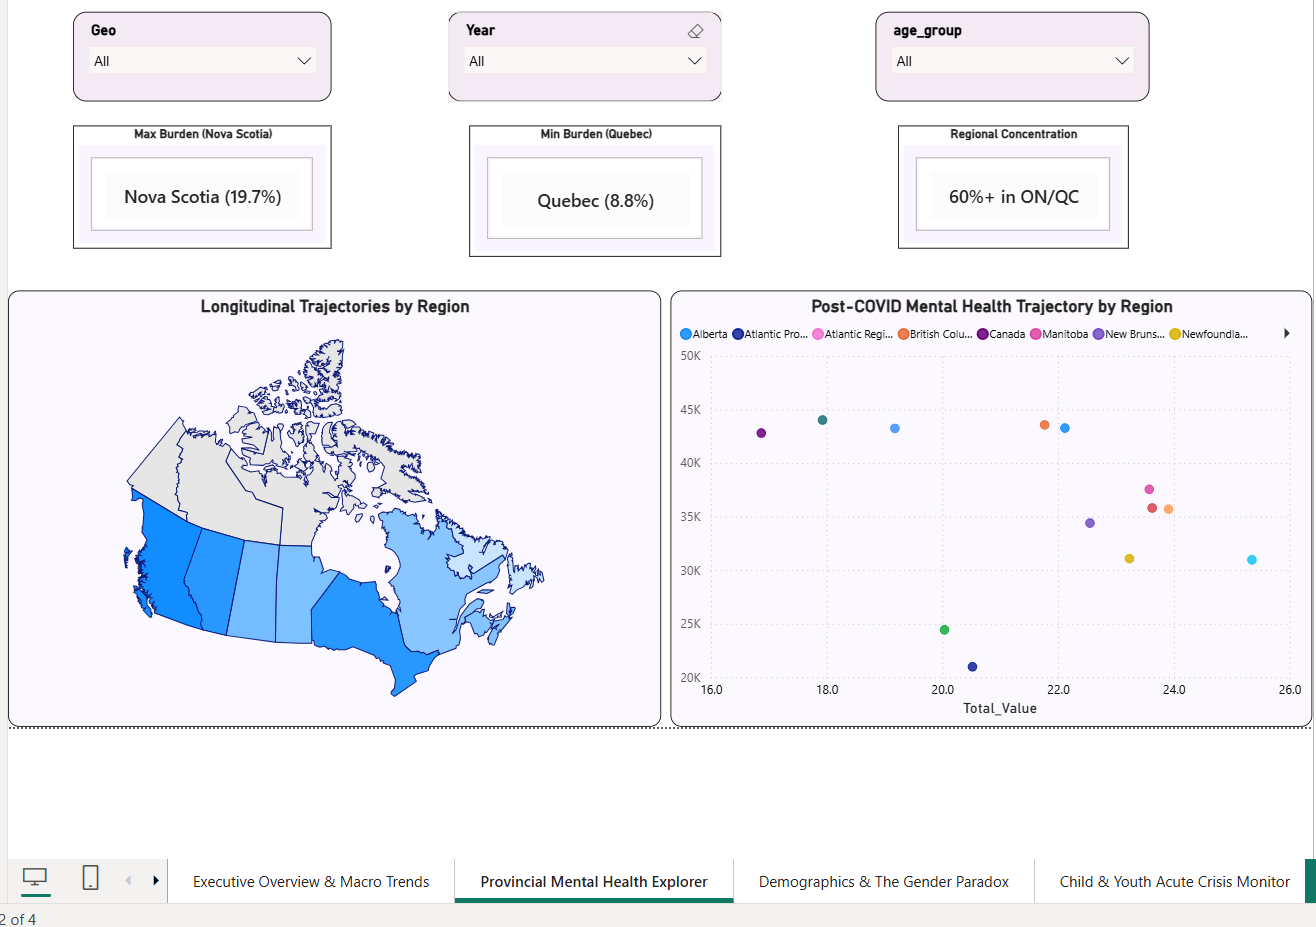

Layout of this report page (visuals, bound fields, positions):
{"tool":"powerbi","page":{"name":"Provincial Mental Health Explorer","canvas":[1280,720],"ordinal":1},"visuals":[{"type":"cardVisual","title":"Max Burden ","fields":{"Data":["Measure Table.Max_Burden_NS"]},"box":[63.7,130.1,253.8,121.1],"z":0},{"type":"cardVisual","title":"Regional Concentration","fields":{"Data":["Measure Table.Concentration_ON_QC"]},"box":[872.8,130.1,226,121.1],"z":1000},{"type":"cardVisual","title":"Min Burden ","fields":{"Data":["Measure Table.Min_Burden_QC"]},"box":[453.1,121.8,247.2,129],"z":2000},{"type":"shapeMap","title":"Longitudinal Trajectories by Region","fields":{"Category":["Dim_Geography.geo"],"Value":["Sum(cchs_disorders_pct.value)"]},"box":[640.3,292.8,613.4,427.2],"z":3000},{"type":"lineChart","title":"Post-COVID Mental Health Trajectory by Region","fields":{"Category":["Dim_Year.Year"],"Series":["Dim_Geography.geo"],"Y":["Sum(mh_long.value)"]},"box":[3.6,292.8,626,427.2],"z":4000},{"type":"slicer","title":"Region","fields":{"Values":["Dim_Geography.geo"]},"box":[63.6,18.8,1048.7,87.8],"z":5000}]}

Visuals, with their boxes on the page's 1280x720 design canvas (x1, y1, x2, y2). These are canvas units, not pixel positions in the 1316x927 screenshot, which may show the page scaled, cropped or inside an application window:
"Max Burden " cardVisual: {"left": 64, "top": 130, "right": 318, "bottom": 251}
"Regional Concentration" cardVisual: {"left": 873, "top": 130, "right": 1099, "bottom": 251}
"Min Burden " cardVisual: {"left": 453, "top": 122, "right": 700, "bottom": 251}
"Longitudinal Trajectories by Region" shapeMap: {"left": 640, "top": 293, "right": 1254, "bottom": 720}
"Post-COVID Mental Health Trajectory by Region" lineChart: {"left": 4, "top": 293, "right": 630, "bottom": 720}
"Region" slicer: {"left": 64, "top": 19, "right": 1112, "bottom": 107}
